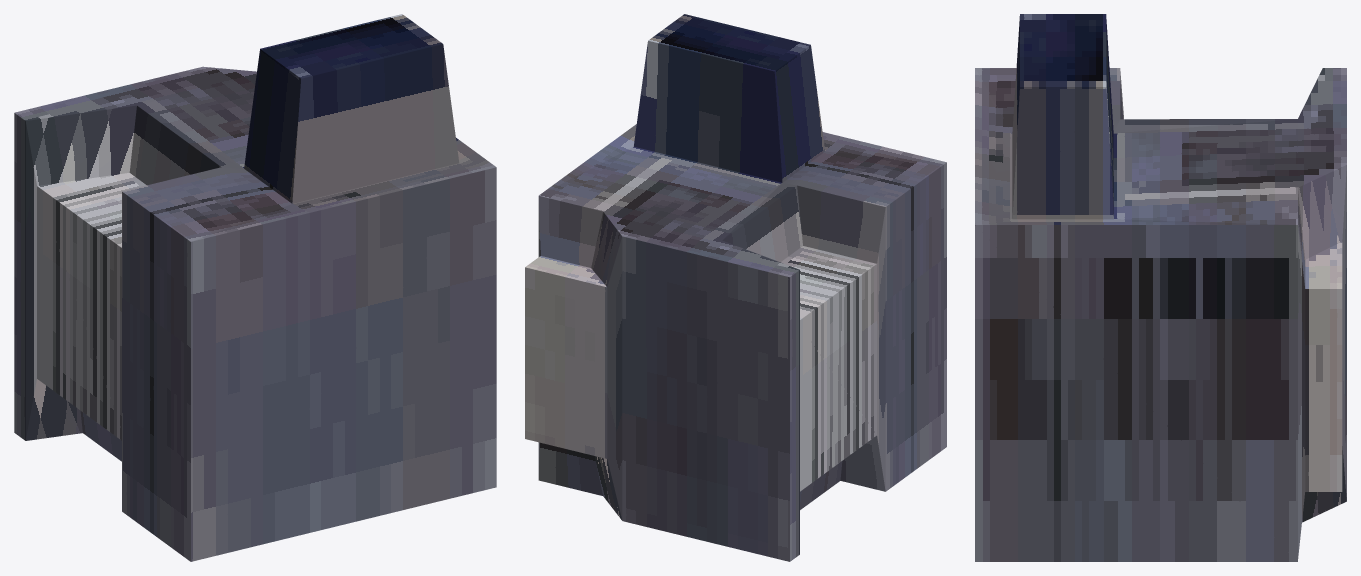
File: thm_prp_key_electronic_l0.fbx
3 views of the same model, side by side, from view 1: azimuth 30°, elevation 25°; view 2: azimuth 150°, elevation 25°; view 3: azimuth 270°, elevation 25° (orthographic). The views are drawn at different scales.
Parts seen in each view (by area): view 1: mesh_node; view 2: mesh_node; view 3: mesh_node.
Part boxes in pixels (bbox=[...]): mesh_node: bbox=[14, 14, 496, 561]; mesh_node: bbox=[525, 14, 946, 561]; mesh_node: bbox=[975, 14, 1346, 561].
Size of the model in its own units: 1 by 1.36 by 1.
